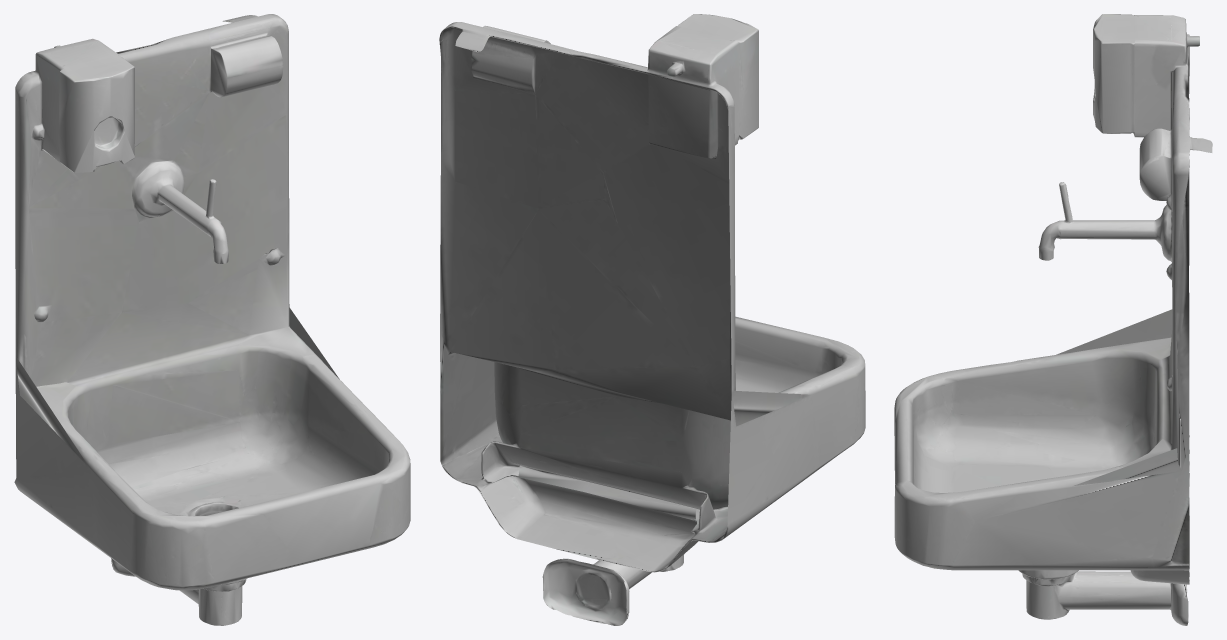
File: srvHandSink.glb
3 renders of one model, left to right at view 1: azimuth 30°, elevation 25°; view 2: azimuth 150°, elevation 25°; view 3: azimuth 270°, elevation 25°, orthographic. The views are drawn at different scales.
Size of the model in its own units: 0.9768 by 1.9 by 1.
1 material, 1 textured.
